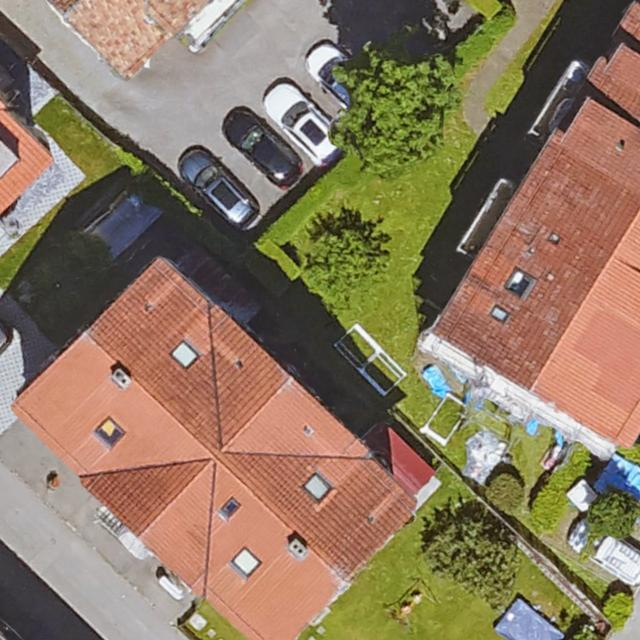tree: (330, 49, 453, 176), (430, 513, 516, 596), (307, 221, 389, 294), (589, 490, 638, 536)
